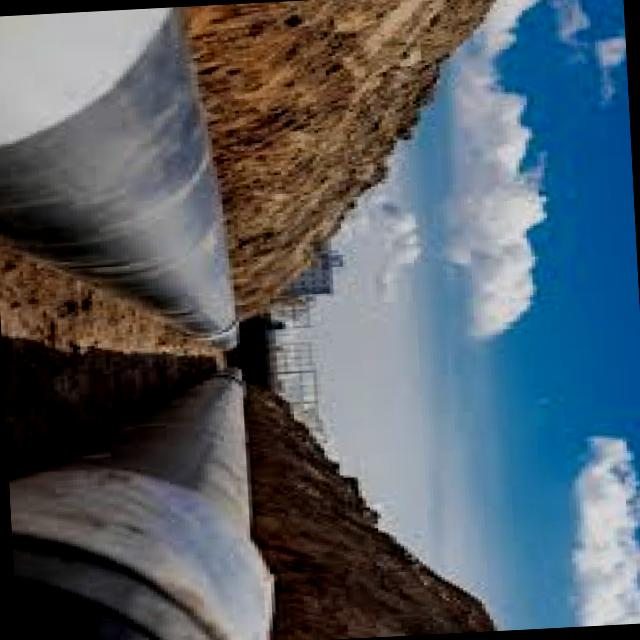gas: (0, 7, 230, 349), (8, 378, 273, 640)
